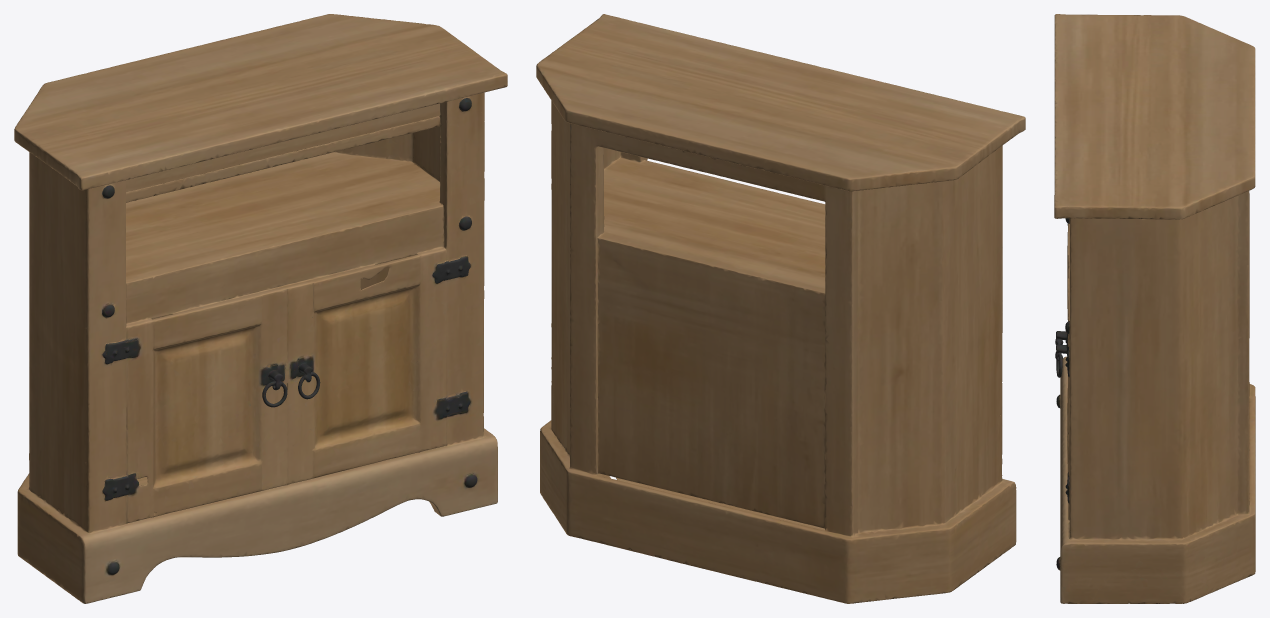
The picture shows the model from 3 angles, left to right: view 1: azimuth 30°, elevation 25°; view 2: azimuth 150°, elevation 25°; view 3: azimuth 270°, elevation 25°; orthographic projection. The views are drawn at different scales.
Parts seen in each view (by area): view 1: geometry_0; view 2: geometry_0; view 3: geometry_0.
Boxes of the visible parts, x1,y1,x2,y2 form: geometry_0: (14,14,507,603); geometry_0: (536,14,1025,603); geometry_0: (1054,14,1255,603).
Bounding box in the file's own units: 0.6918 × 0.6666 × 0.304.
1 material, 1 textured.
